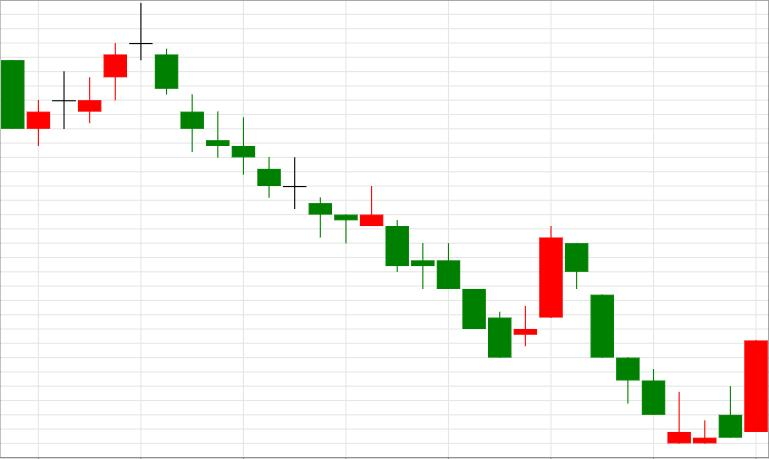evening_star_fall: (27, 3, 179, 144)
